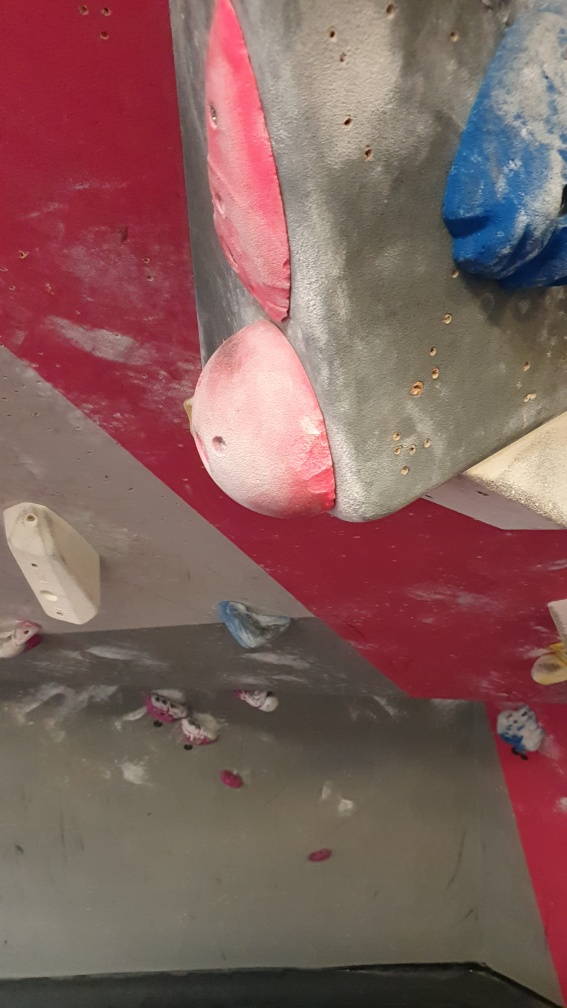Jug: (222, 600, 293, 653)
Pinch: (4, 502, 106, 630)
Sloper: (192, 319, 339, 519)
